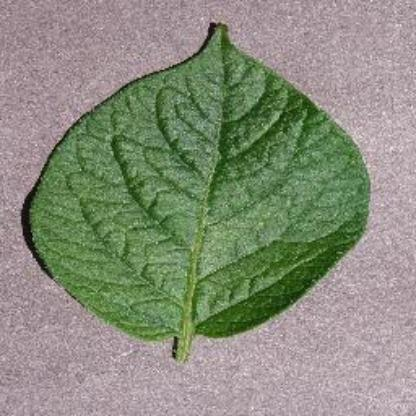Healthy-plant: (19, 19, 384, 368)
